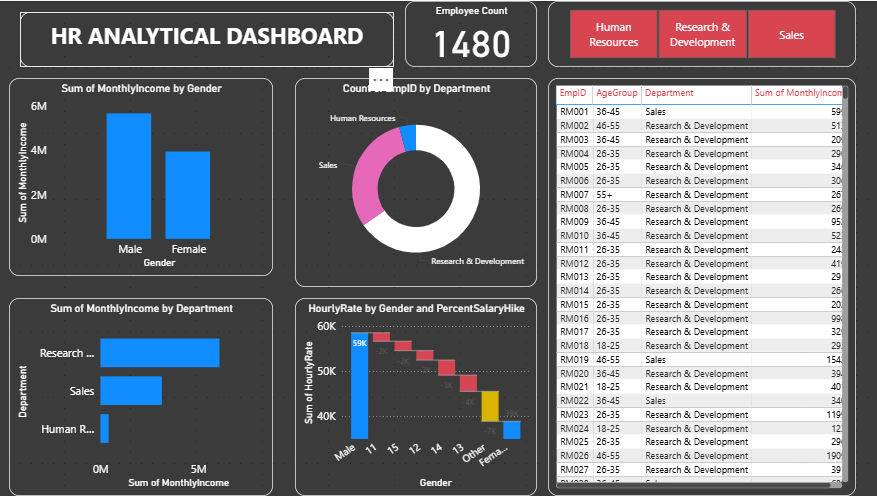

Layout of this report page (visuals, bound fields, positions):
{"tool":"powerbi","page":{"name":"Page 1","canvas":[1280,720],"ordinal":0},"visuals":[{"type":"textbox","box":[32,0,544,80],"z":0},{"type":"columnChart","fields":{"Y":["Sum(HR_Analytics.MonthlyIncome)"],"Category":["HR_Analytics.Gender"]},"box":[16,112,384,288],"z":1000},{"type":"donutChart","fields":{"Category":["HR_Analytics.Department","HR_Analytics.EmployeeCount"],"Y":["CountNonNull(HR_Analytics.EmpID)"]},"box":[432,112,352,304],"z":2000},{"type":"tableEx","fields":{"Values":["HR_Analytics.EmpID","HR_Analytics.AgeGroup","HR_Analytics.Department","Sum(HR_Analytics.MonthlyIncome)"]},"box":[800,112,448,608],"z":3000},{"type":"barChart","fields":{"Category":["HR_Analytics.Department"],"Y":["Sum(HR_Analytics.MonthlyIncome)"]},"box":[16,432,384,288],"z":4000},{"type":"card","title":"Employee Count","fields":{"Values":["CountNonNull(HR_Analytics.EmpID)"]},"box":[608,0,192,96],"z":5000},{"type":"slicer","fields":{"Values":["HR_Analytics.Department"]},"box":[800,0,448,96],"z":6000},{"type":"waterfallChart","title":"HourlyRate by Gender and PercentSalaryHike","fields":{"Category":["HR_Analytics.Gender"],"Breakdown":["HR_Analytics.PercentSalaryHike"],"Y":["Sum(HR_Analytics.HourlyRate)"]},"box":[432,432,352,288],"z":7000}]}

Visuals, with their boxes in screenshot pixels (x1, y1, x2, y2), scaled from the page's 1280x720 canvas onto the 877x496 screenshot:
textbox: bbox=(22, 0, 395, 55)
columnChart - Sum(HR_Analytics.MonthlyIncome) x HR_Analytics.Gender: bbox=(11, 77, 274, 276)
donutChart - HR_Analytics.Department x HR_Analytics.EmployeeCount: bbox=(296, 77, 537, 287)
tableEx - HR_Analytics.EmpID x HR_Analytics.AgeGroup: bbox=(548, 77, 855, 495)
barChart - HR_Analytics.Department x Sum(HR_Analytics.MonthlyIncome): bbox=(11, 298, 274, 495)
"Employee Count" card: bbox=(417, 0, 548, 66)
slicer - HR_Analytics.Department: bbox=(548, 0, 855, 66)
"HourlyRate by Gender and PercentSalaryHike" waterfallChart: bbox=(296, 298, 537, 495)
